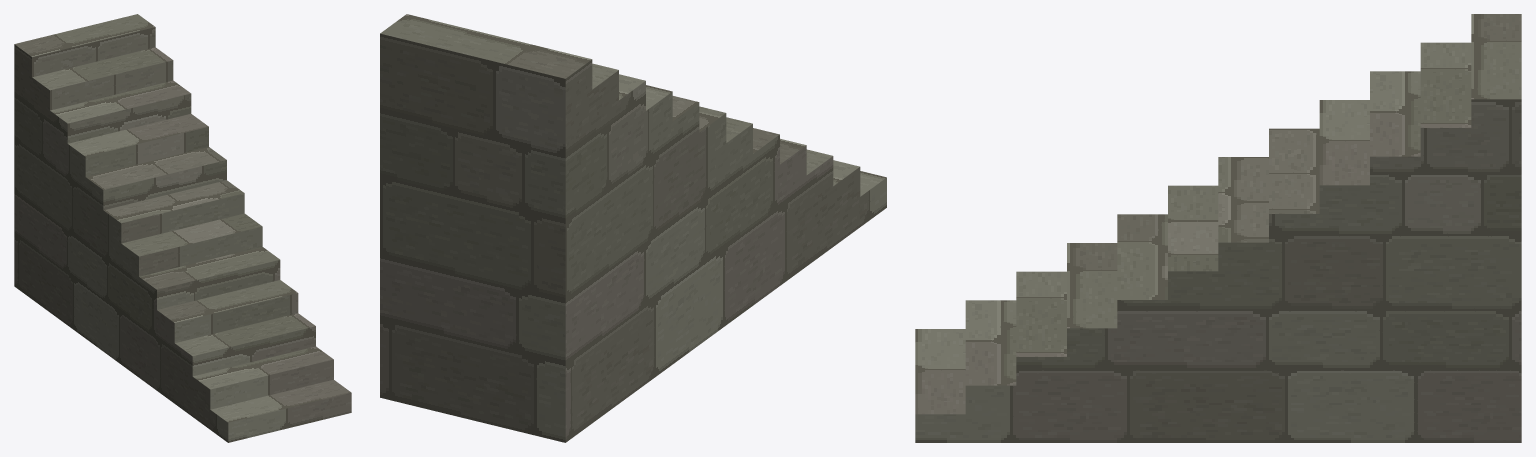
File: stair_flight.glb
The picture shows the model from 3 angles, left to right: view 1: azimuth 30°, elevation 25°; view 2: azimuth 150°, elevation 25°; view 3: azimuth 270°, elevation 25°; orthographic projection. The views are drawn at different scales.
Parts seen in each view (by area): view 1: Stair flight; view 2: Stair flight; view 3: Stair flight.
Part boxes in pixels (x1,y1,x2,y2): Stair flight: (14,14,351,442); Stair flight: (380,14,886,442); Stair flight: (915,14,1521,442).
Bounding box in the file's own units: 1 × 1.88 × 3.
Materials: 1 (1 with a texture image).
